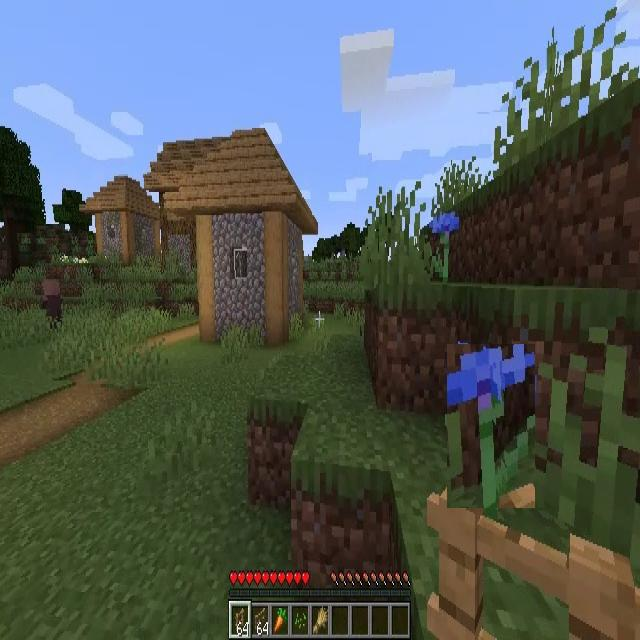flower: (447, 344, 535, 508), (431, 211, 458, 281)
